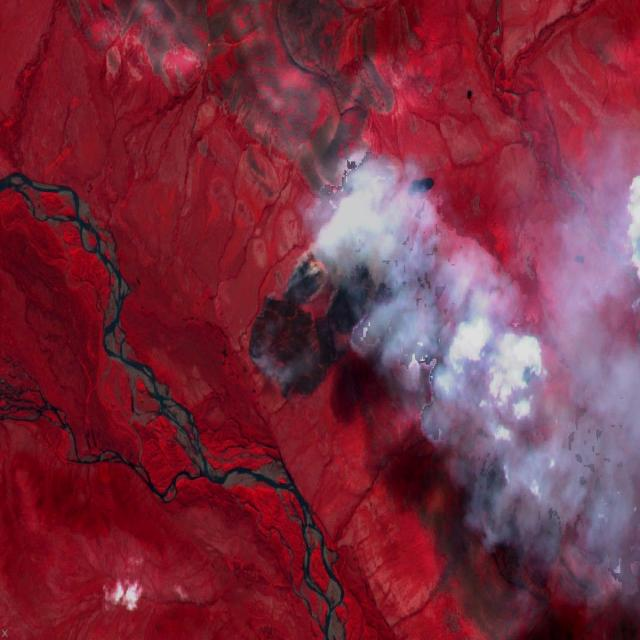fire: (246, 239, 376, 406)
